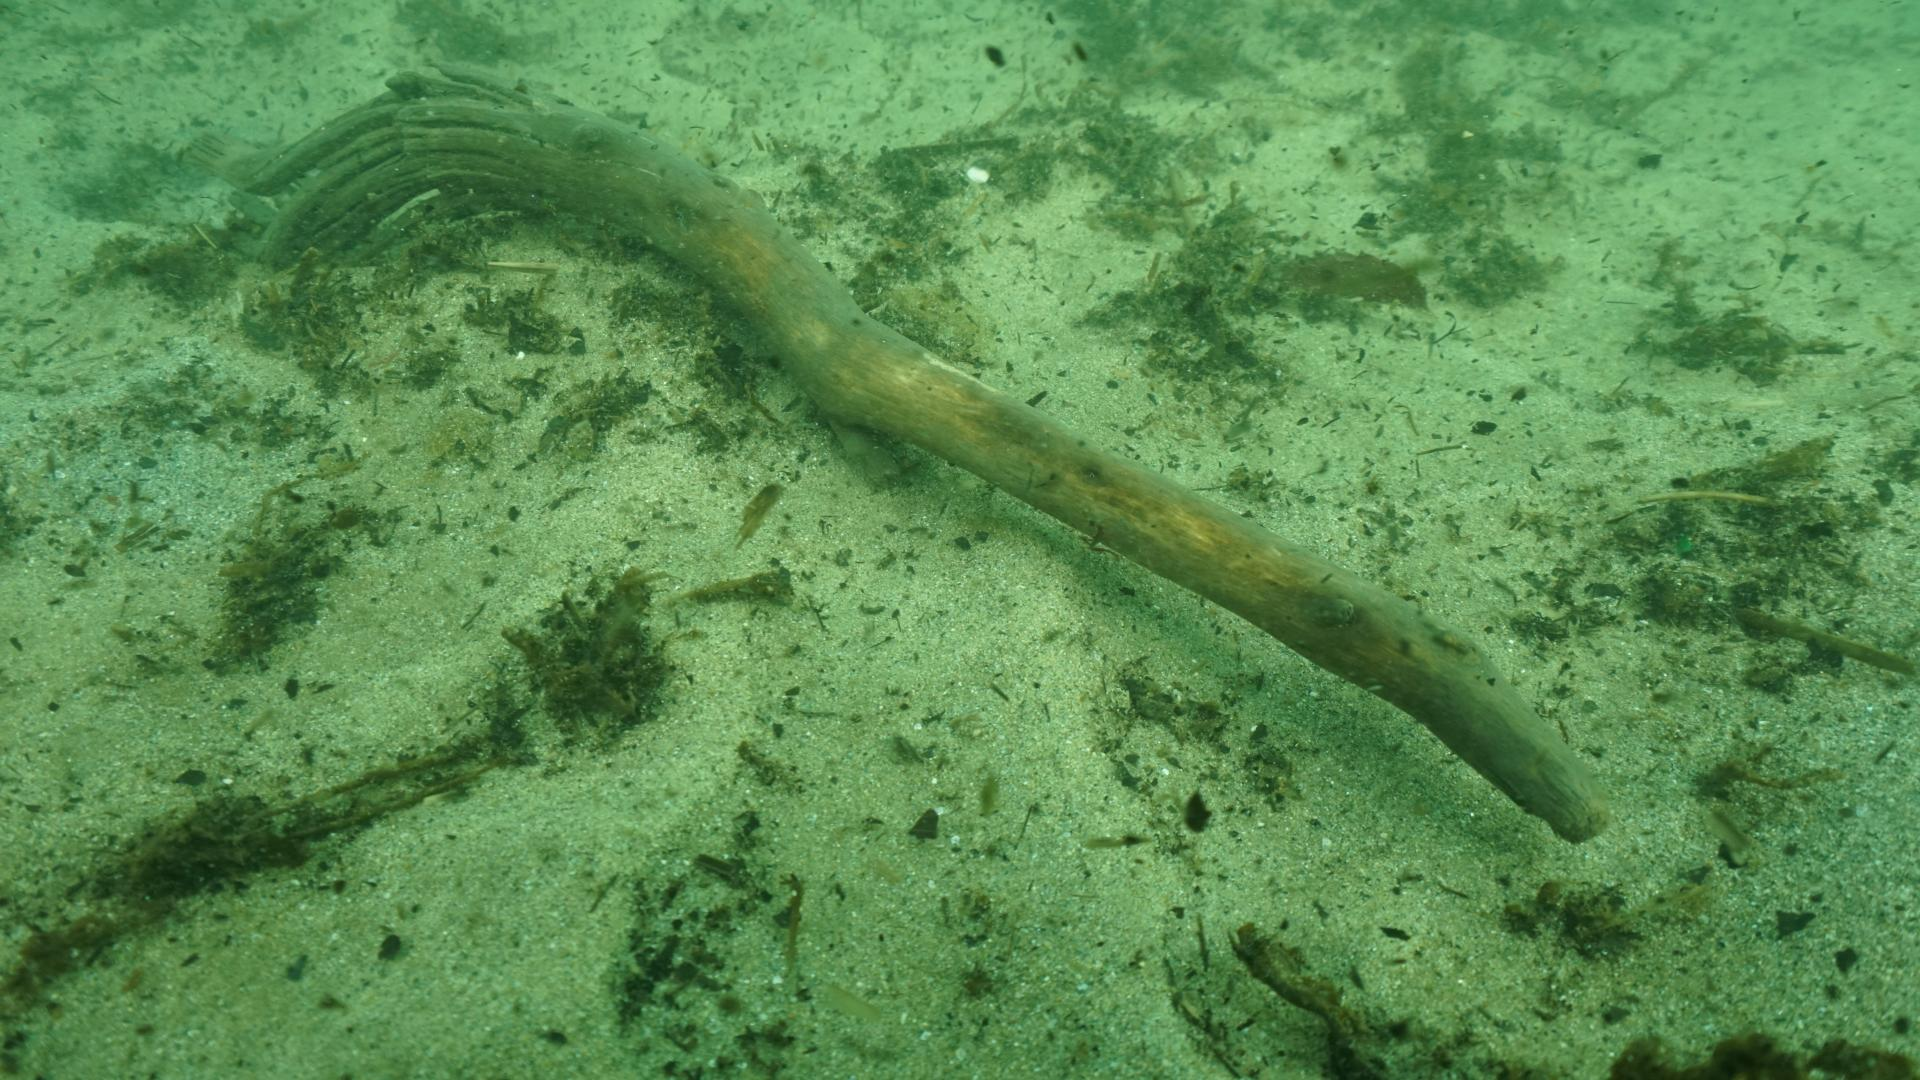wood: (240, 61, 1614, 847)
